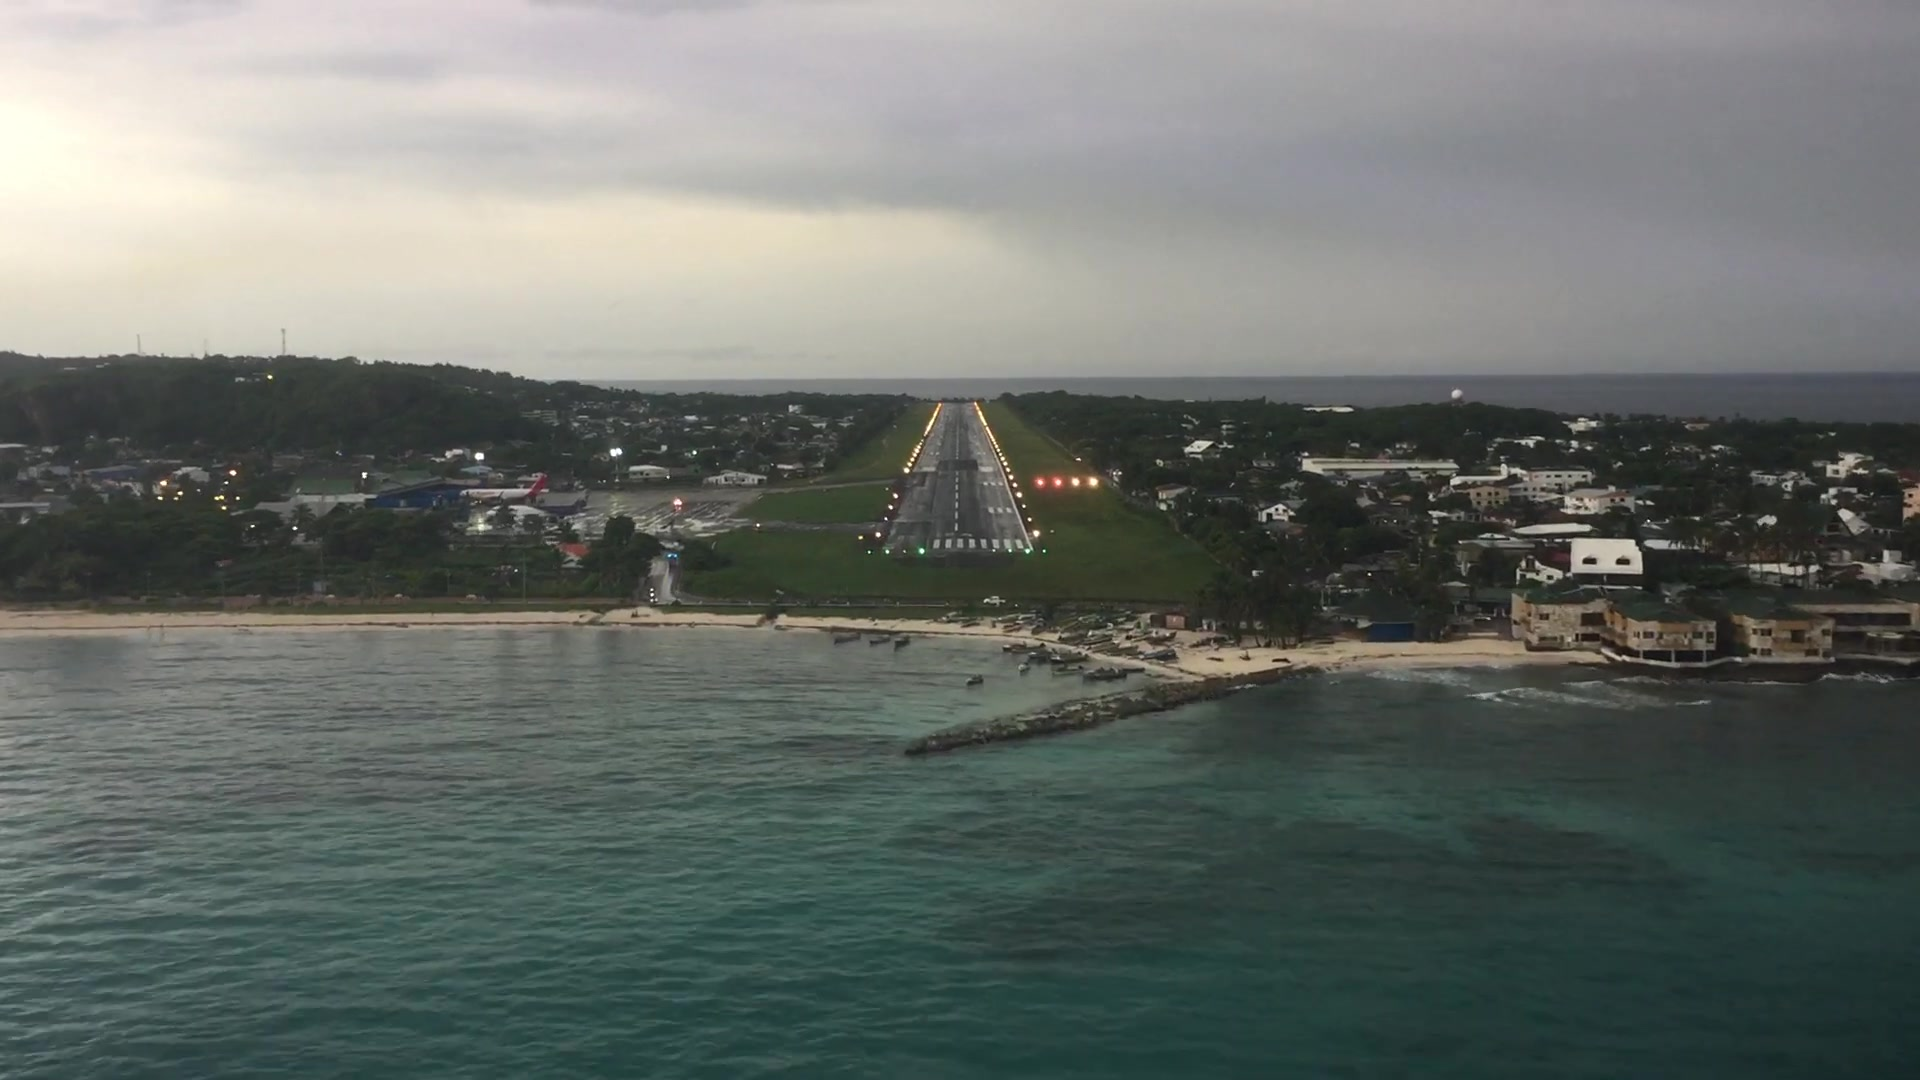entrance: (931, 538, 1025, 549)
runway: (877, 400, 1034, 555)
